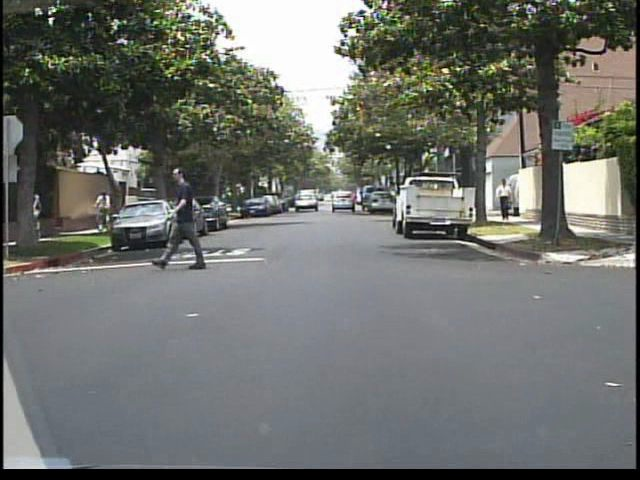person: (165, 159, 212, 272), (25, 181, 53, 236), (496, 176, 517, 224), (94, 185, 115, 230), (179, 183, 197, 222)
